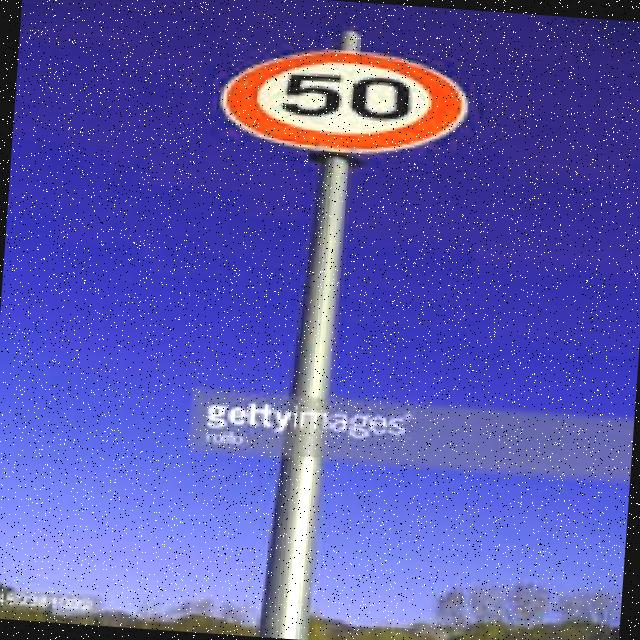Ograniczenie predkosci do 50: (217, 39, 478, 161)
